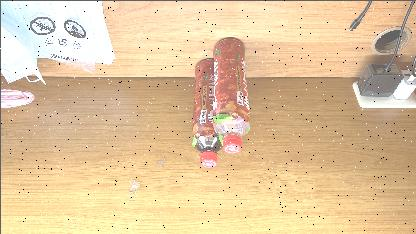Plastic Bottle: (212, 36, 250, 152), (191, 56, 225, 168)
